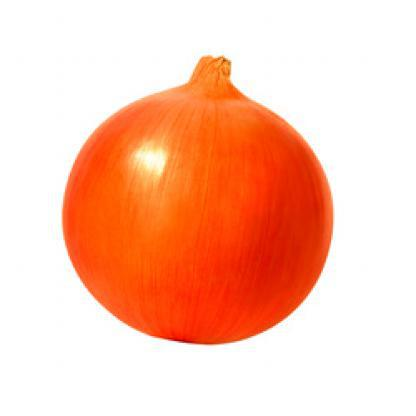onion: (48, 58, 356, 363)
